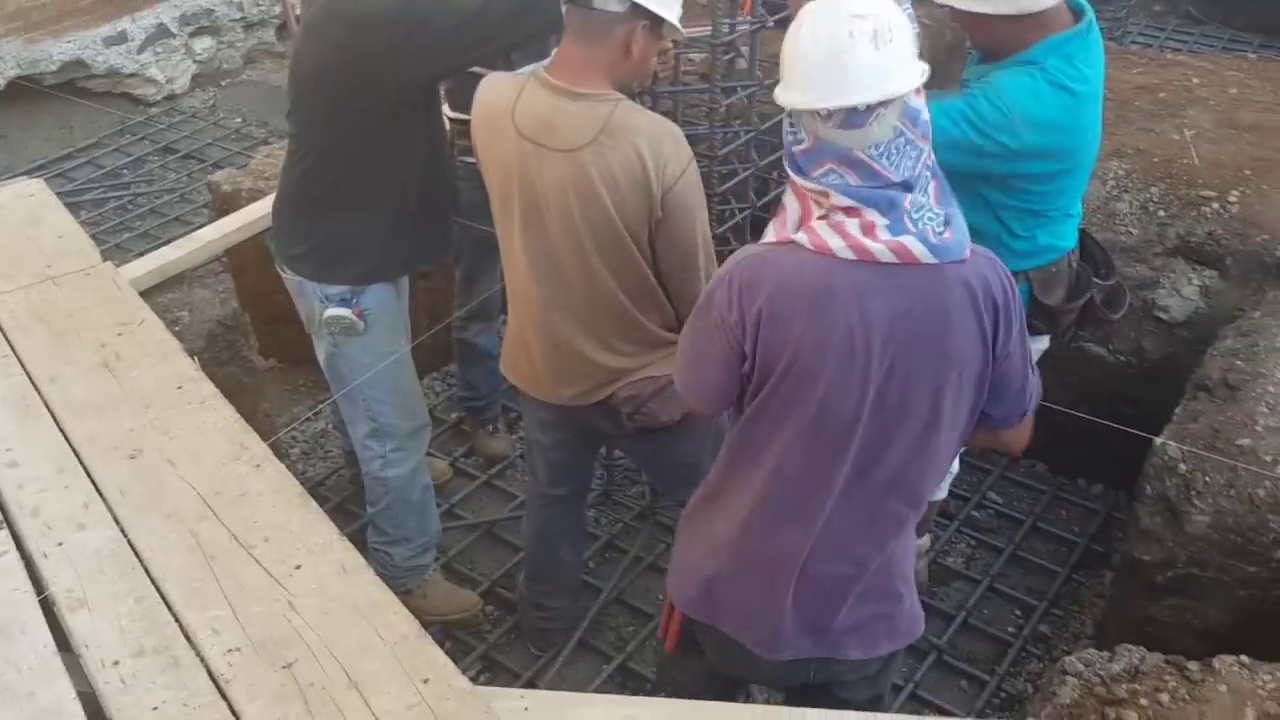helmet: (767, 0, 927, 111)
helmet-off: (518, 6, 680, 100), (939, 0, 1075, 54)
helmet-on: (766, 5, 936, 268)
person: (629, 23, 1030, 720), (469, 0, 733, 676), (261, 0, 532, 653), (925, 0, 1110, 419)
